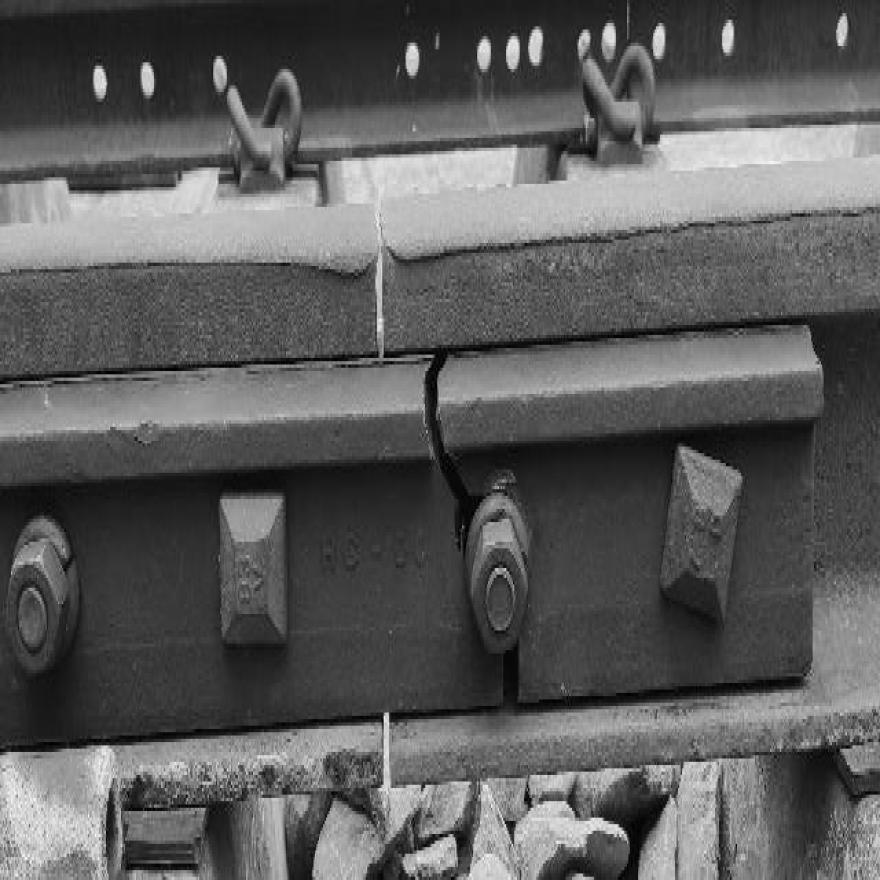railway-gap: (338, 185, 422, 370), (354, 677, 418, 820)
